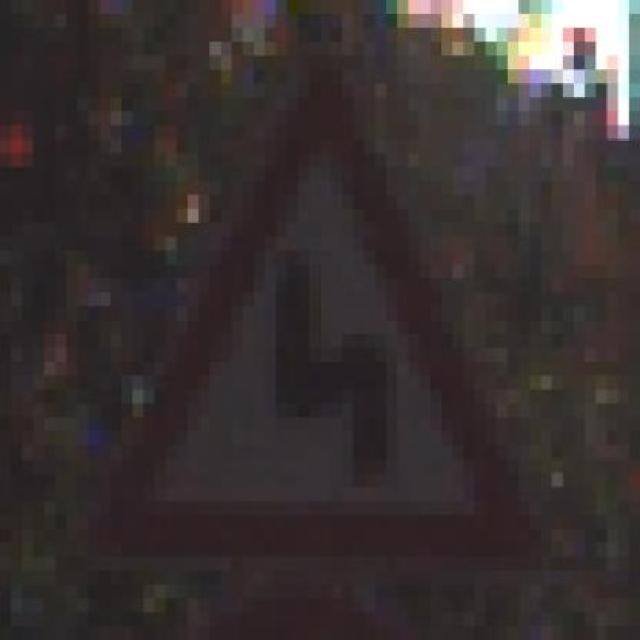Left Zig Zag Traffic: (100, 69, 562, 585)
